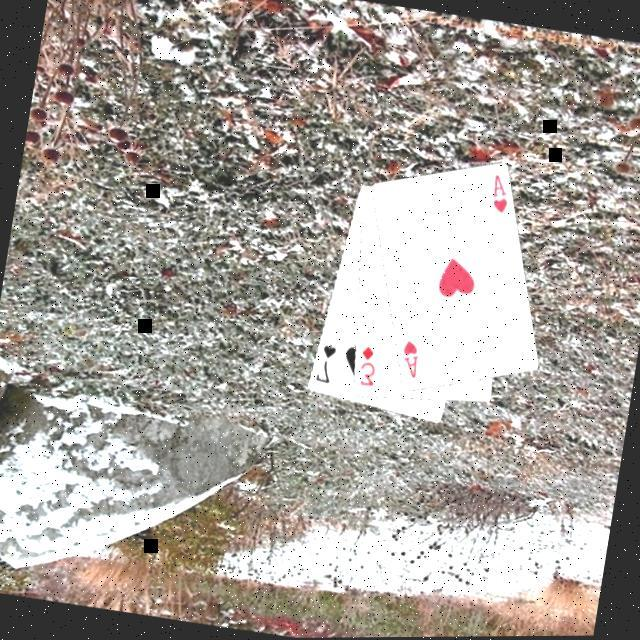3D: (352, 343, 381, 392)
7S: (309, 340, 338, 389)
AH: (394, 337, 423, 384), (483, 172, 512, 219)
